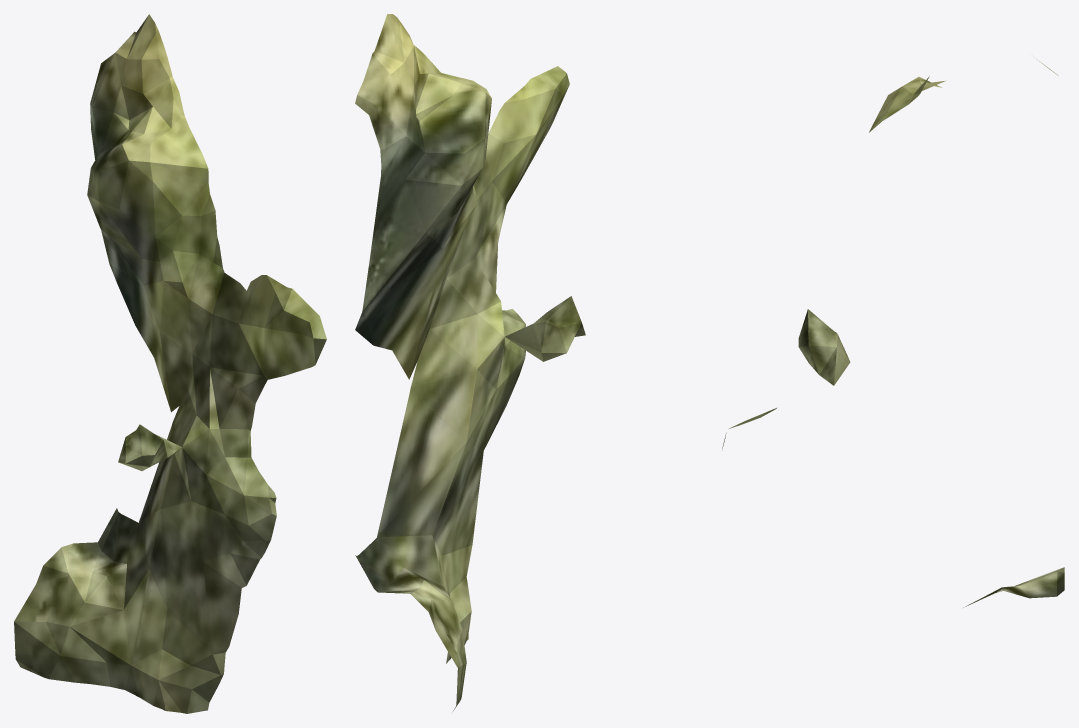
3 views of the same model, side by side, from view 1: azimuth 30°, elevation 25°; view 2: azimuth 150°, elevation 25°; view 3: azimuth 270°, elevation 25° (orthographic). The views are drawn at different scales.
Size of the model in its own units: 0.7721 by 4.33 by 2.52.
Materials: 1 (1 with a texture image).
